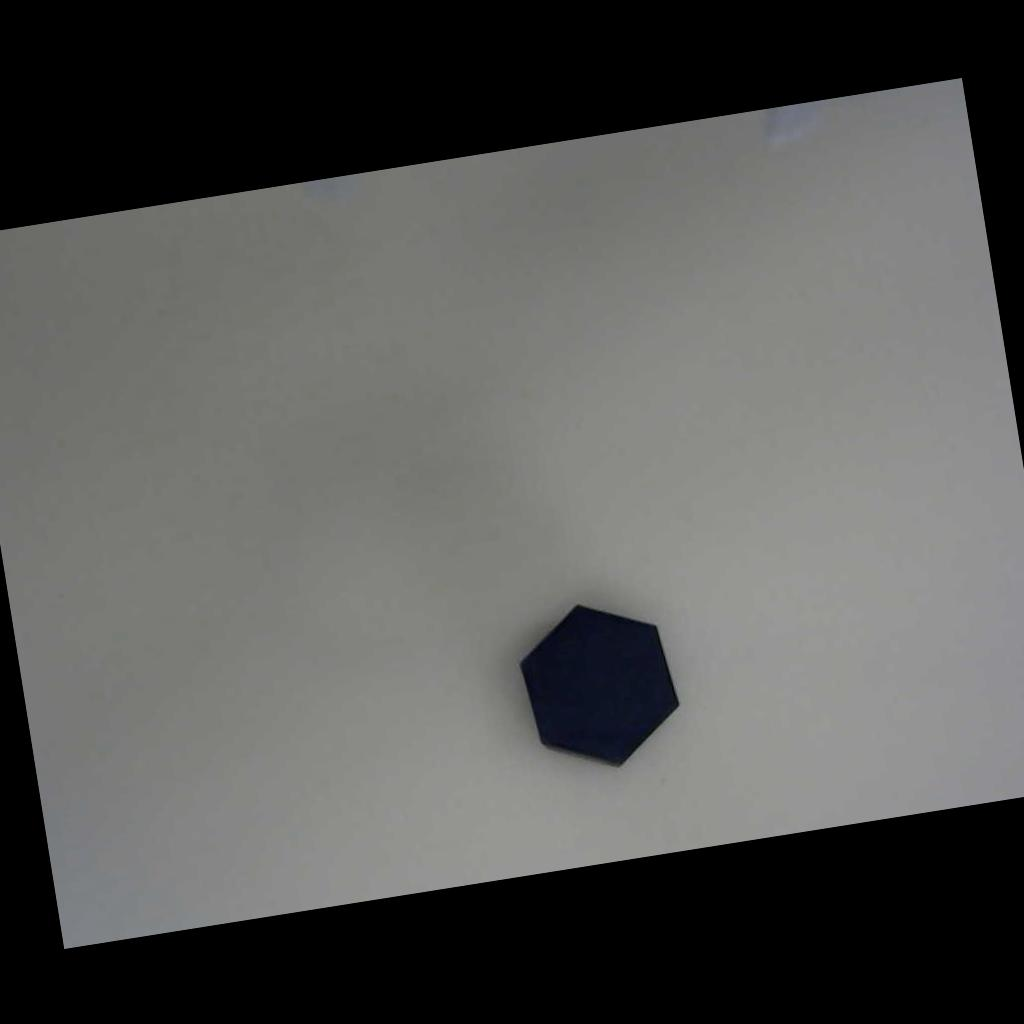hexagon: (486, 564, 708, 806)
